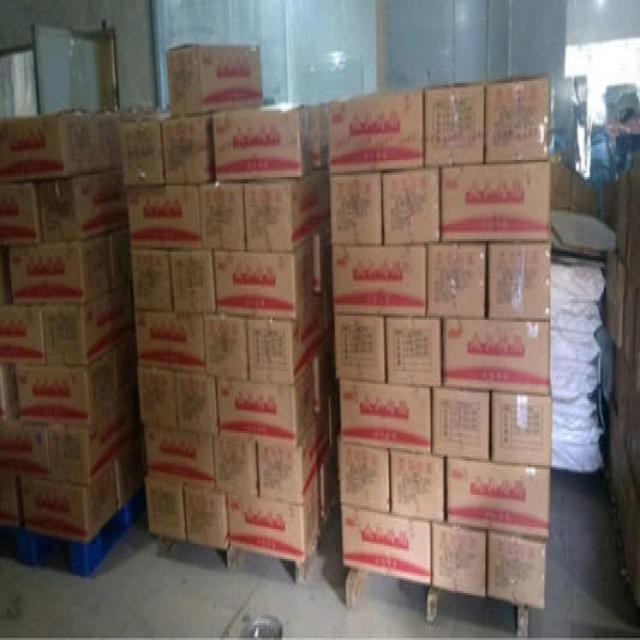box: (47, 386, 139, 486), (441, 162, 550, 243), (445, 459, 550, 542), (227, 471, 321, 561), (214, 237, 315, 320), (442, 318, 550, 395), (16, 348, 119, 427), (216, 365, 316, 446), (329, 85, 423, 171), (20, 461, 118, 542), (257, 399, 330, 506), (42, 282, 132, 367), (247, 292, 328, 386), (341, 503, 431, 587), (214, 105, 312, 181), (10, 235, 112, 305), (331, 245, 426, 318), (166, 43, 262, 115), (340, 380, 431, 454), (37, 169, 128, 243), (0, 113, 98, 181), (244, 169, 323, 252), (485, 75, 550, 164), (126, 183, 203, 250), (424, 81, 484, 164), (488, 241, 550, 320), (134, 309, 204, 375), (486, 533, 546, 608), (491, 393, 551, 467), (427, 243, 486, 318), (382, 166, 439, 243), (144, 427, 214, 489), (432, 388, 490, 461), (385, 316, 441, 388), (390, 450, 444, 523), (432, 523, 485, 597), (160, 113, 215, 183), (329, 173, 382, 243), (337, 442, 389, 512), (334, 314, 385, 382), (199, 183, 245, 250), (169, 250, 216, 314), (120, 117, 163, 186), (0, 422, 49, 480), (204, 314, 247, 380), (175, 371, 219, 435), (184, 484, 228, 548), (213, 435, 258, 497), (0, 305, 44, 365), (0, 181, 41, 245), (146, 476, 185, 542), (131, 250, 173, 311), (137, 365, 177, 429)
